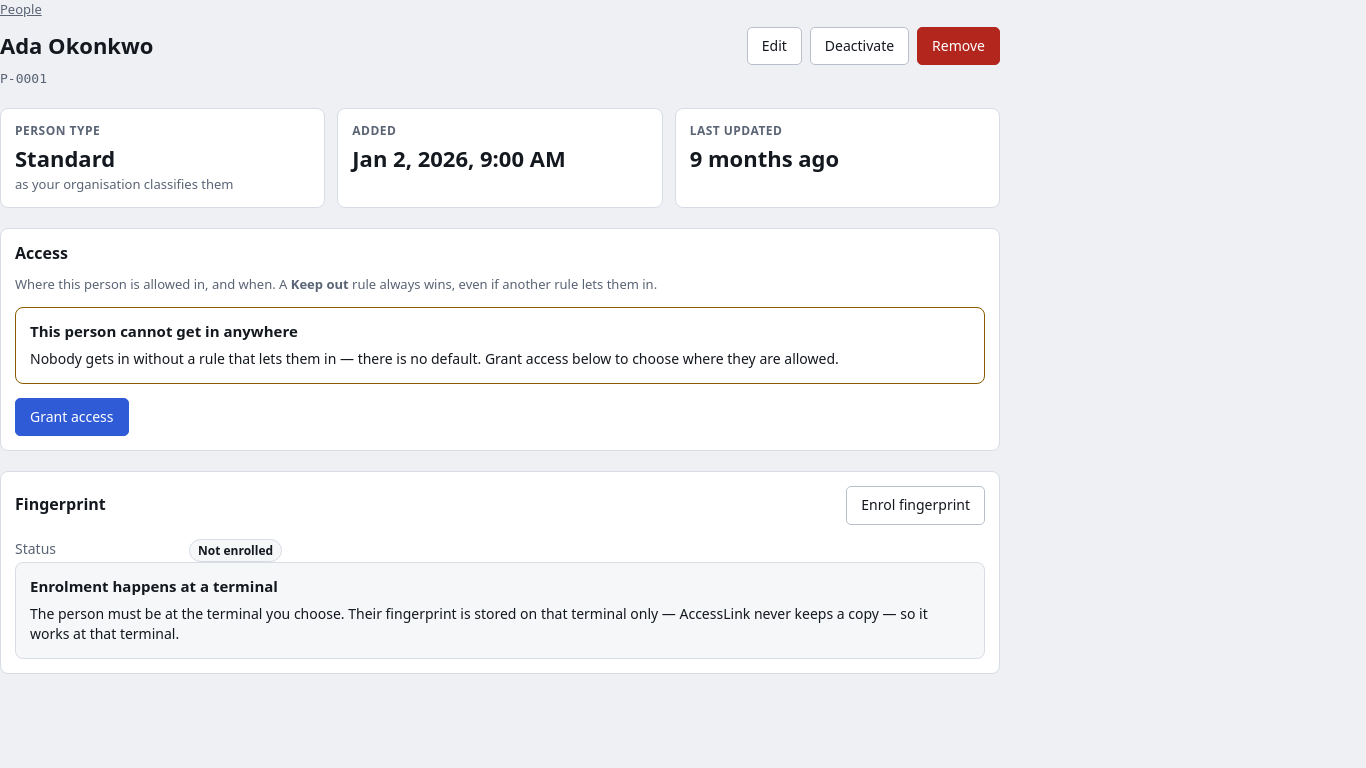
it: choosing a terminal › NEVER PRESELECTS A TERMINAL, even when only one is eligible
The image size is (1366, 768).
Click the button "Enrol fingerprint" at (916, 505), box [846,486,985,524]
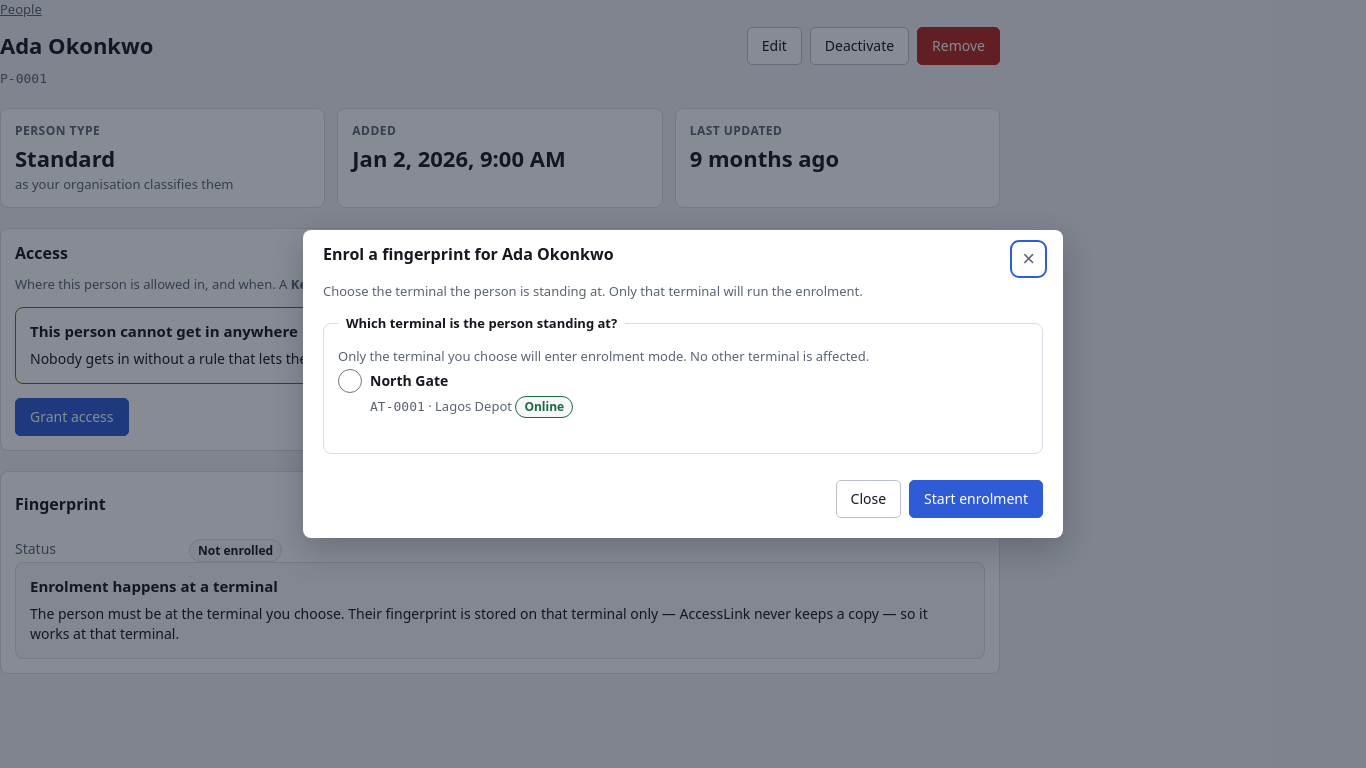
Expected: the radio button labelled "North Gate" is not checked, [338,369,362,393]
